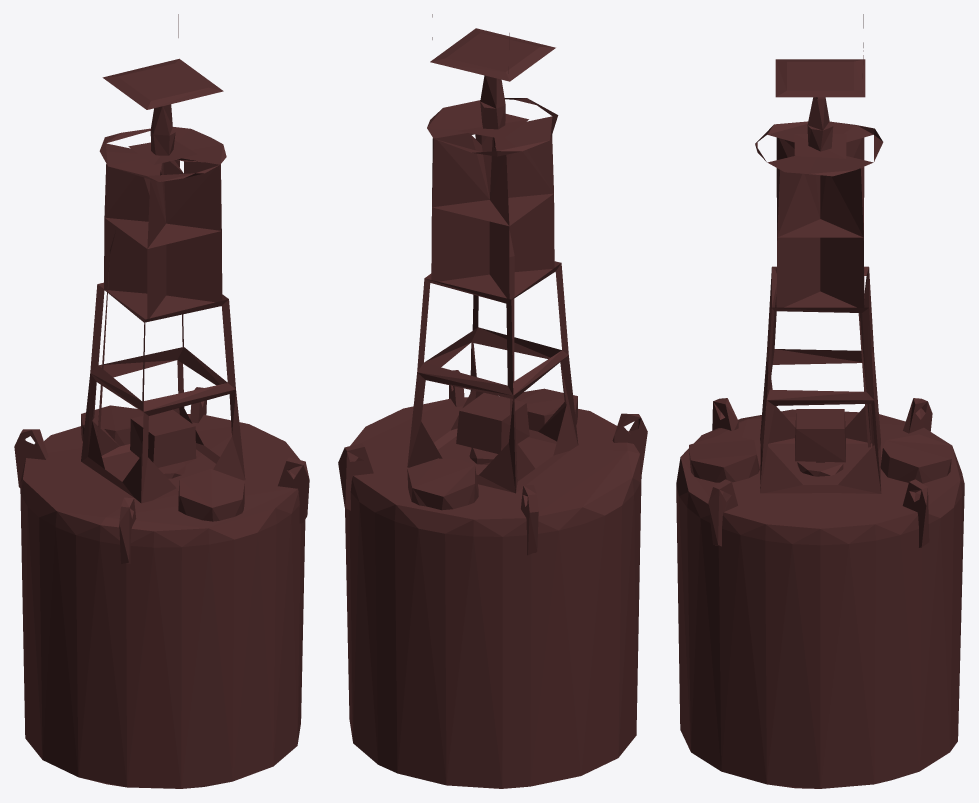
File: cove-harbour-buoy.lod0.glb
3 renders of one model, left to right at view 1: azimuth 30°, elevation 25°; view 2: azimuth 150°, elevation 25°; view 3: azimuth 270°, elevation 25°, orthographic. The views are drawn at different scales.
Visible parts, largest first — view 1: Object_4; view 2: Object_4; view 3: Object_4.
Part boxes in pixels (box(x1,y1,x2,y2)): Object_4: box(14, 14, 309, 788); Object_4: box(338, 14, 647, 788); Object_4: box(676, 14, 964, 788).
Bounding box in the file's own units: 0.9672 × 2.6 × 0.9672.
